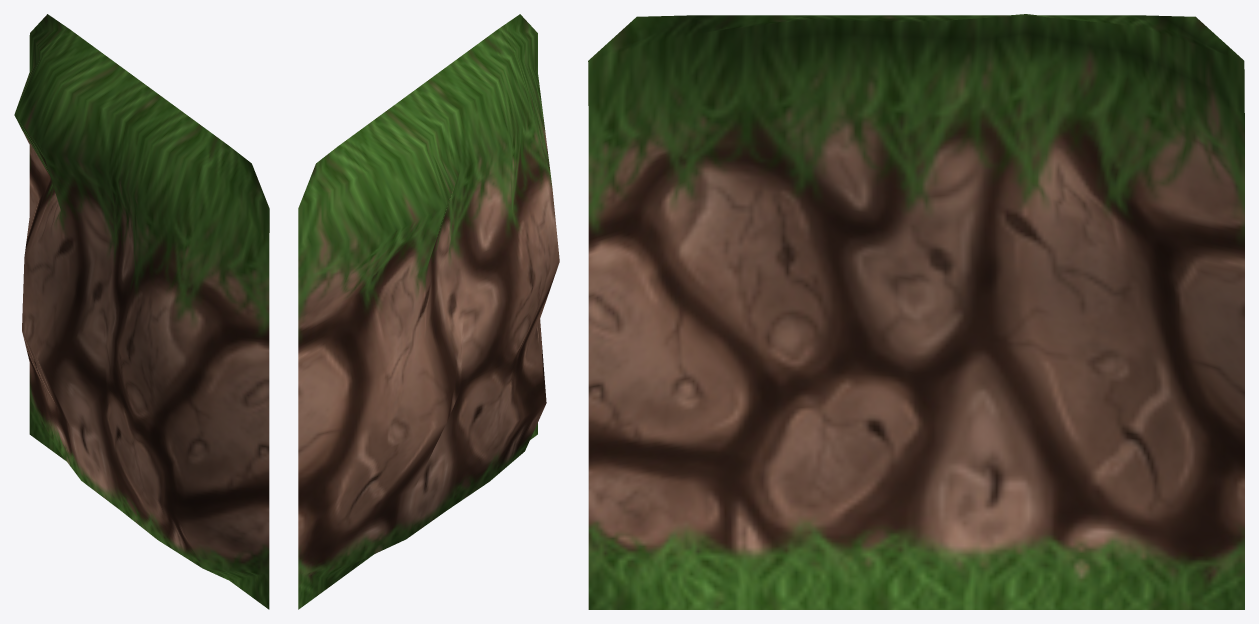
Rendered from bloc_extremite 1.FBX.
3 views of the same model, side by side, from view 1: azimuth 30°, elevation 25°; view 2: azimuth 150°, elevation 25°; view 3: azimuth 270°, elevation 25° (orthographic). The views are drawn at different scales.
Visible parts, largest first — view 1: Object002; view 2: Object002; view 3: Object002.
Boxes of the visible parts, x1,y1,x2,y2 form: Object002: (14, 14, 269, 609); Object002: (298, 14, 559, 609); Object002: (588, 14, 1244, 609).
Bounding box in the file's own units: 16.57 × 100 × 100.
